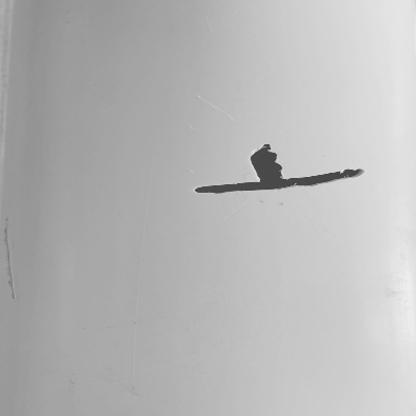fengxi: (196, 169, 365, 194)
kongdong: (248, 144, 288, 180)
